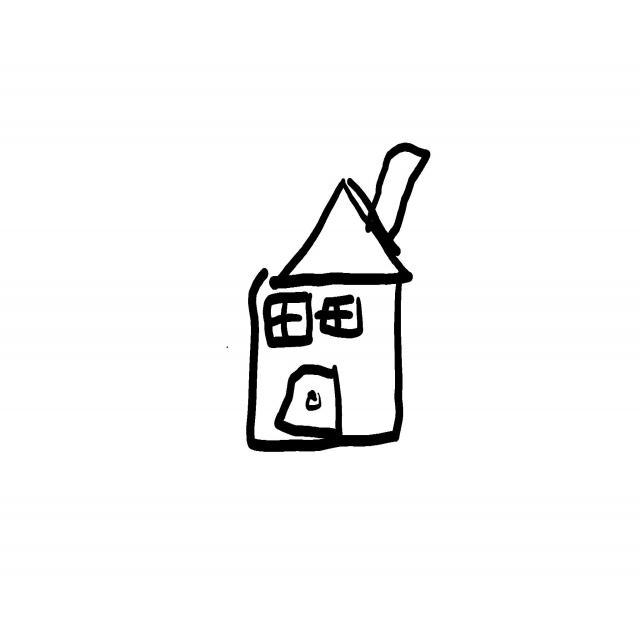chimney: (368, 140, 432, 251)
door: (273, 363, 344, 438)
house: (247, 143, 430, 452)
roof: (276, 180, 414, 284)
wall: (246, 275, 399, 441)
window: (266, 294, 310, 345), (318, 294, 363, 340)
